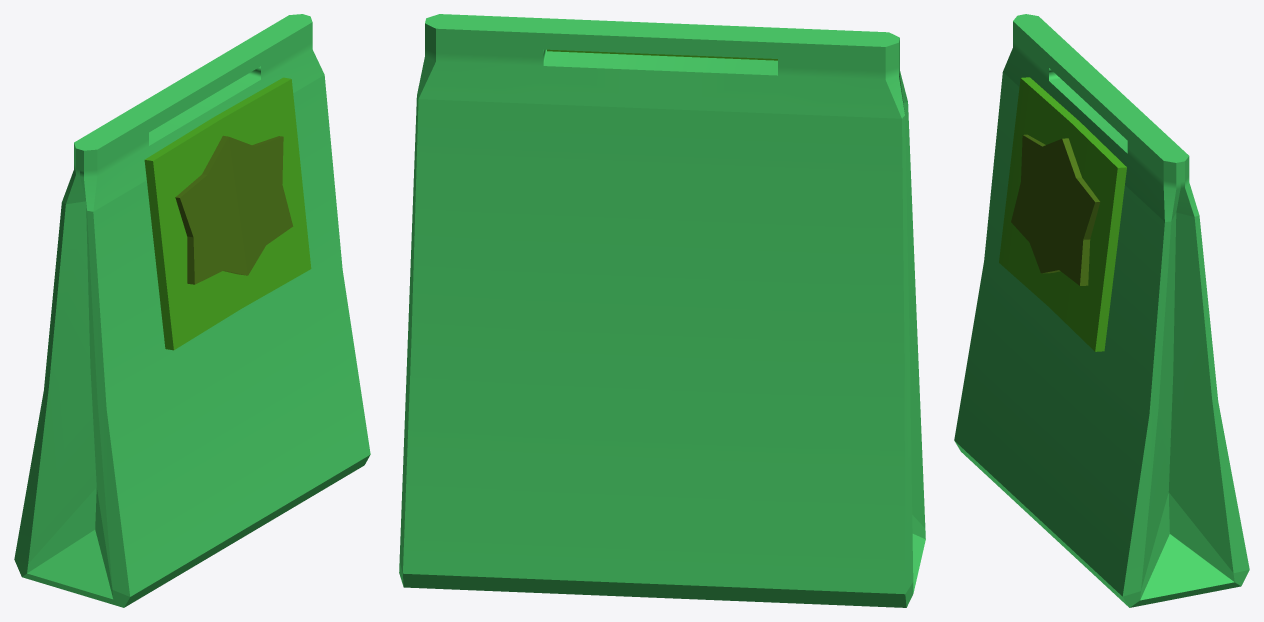
The model's file is Tea_Bag_low.fbx.
3 renders of one model, left to right at view 1: azimuth 30°, elevation 25°; view 2: azimuth 150°, elevation 25°; view 3: azimuth 270°, elevation 25°, orthographic. The views are drawn at different scales.
Parts seen in each view (by area): view 1: Cube.044; view 2: Cube.044; view 3: Cube.044.
Boxes of the visible parts, x1,y1,x2,y2 form: Cube.044: (14,14,370,607); Cube.044: (399,14,925,607); Cube.044: (954,14,1249,607).
Size of the model in its own units: 175 by 194 by 121.
